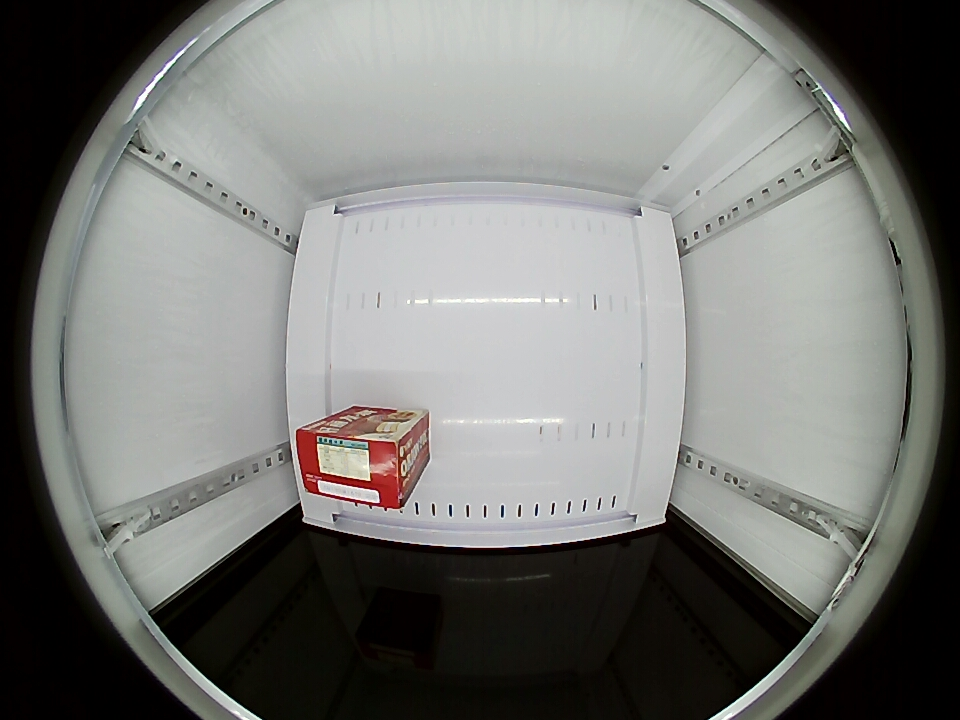haoliyou: (295, 414, 419, 512)
